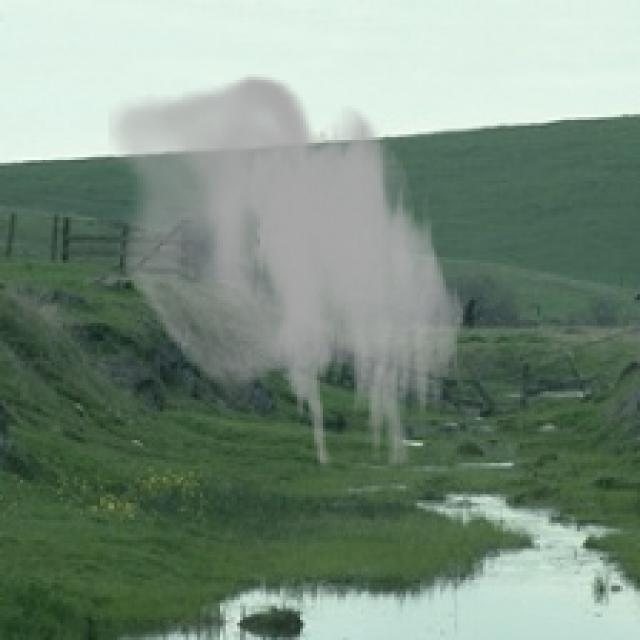smoke: (109, 74, 468, 469)
